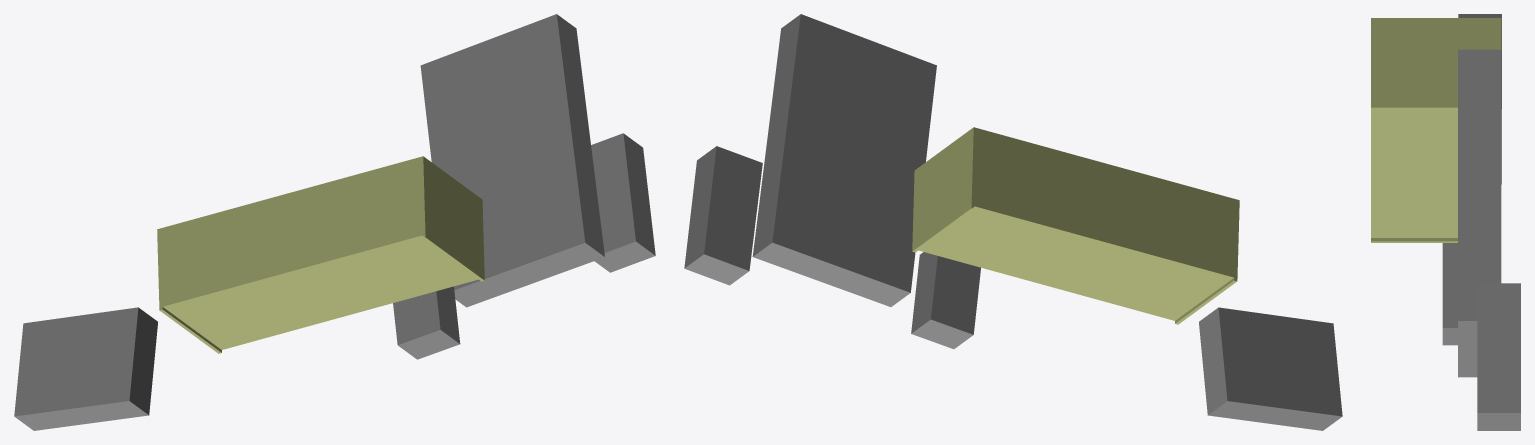
3 renders of one model, left to right at view 1: azimuth 30°, elevation 25°; view 2: azimuth 150°, elevation 25°; view 3: azimuth 270°, elevation 25°, orthographic. The views are drawn at different scales.
Visible parts, largest first — view 1: 0_2_3_3_3_0_2_0_2; view 2: 0_2_3_3_3_0_2_0_2; view 3: 0_2_3_3_3_0_2_0_2.
Part boxes in pixels (x1,y1,x2,y2): 0_2_3_3_3_0_2_0_2: (14,14,655,430); 0_2_3_3_3_0_2_0_2: (684,14,1342,430); 0_2_3_3_3_0_2_0_2: (1371,14,1520,430).
Size of the model in its own units: 55.27 by 23.94 by 10.34.
